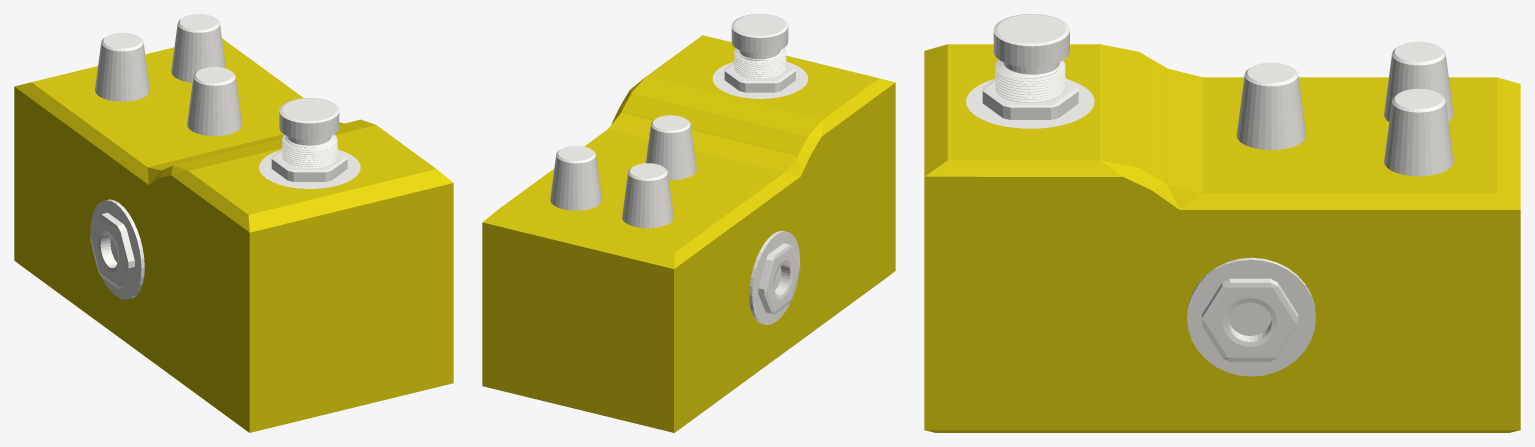
File: phaser-old.gltf
The picture shows the model from 3 angles, left to right: view 1: azimuth 30°, elevation 25°; view 2: azimuth 150°, elevation 25°; view 3: azimuth 270°, elevation 25°; orthographic projection. The views are drawn at different scales.
Visible parts, largest first — view 1: Phaser; view 2: Phaser; view 3: Phaser.
Boxes of the visible parts, left/top/right/bottom form: Phaser: left=14, top=14, right=453, bottom=432; Phaser: left=482, top=14, right=895, bottom=432; Phaser: left=924, top=14, right=1520, bottom=432.
Bounding box in the file's own units: 2.2 × 2.54 × 4.
